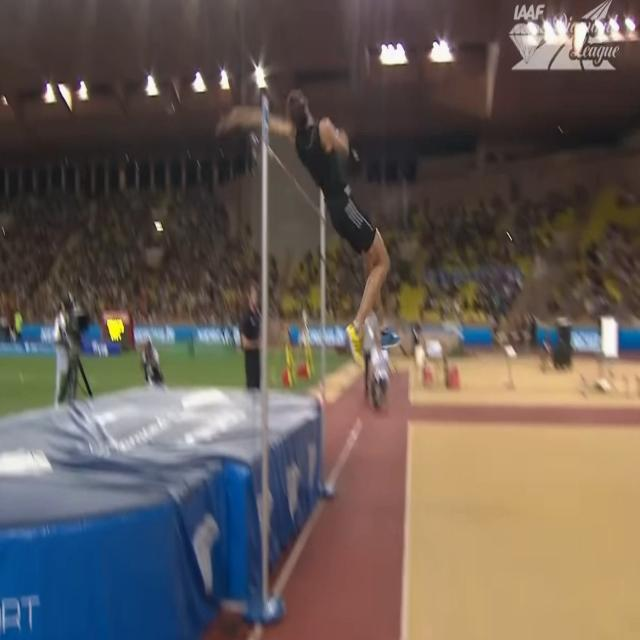jump: (216, 86, 402, 367)
